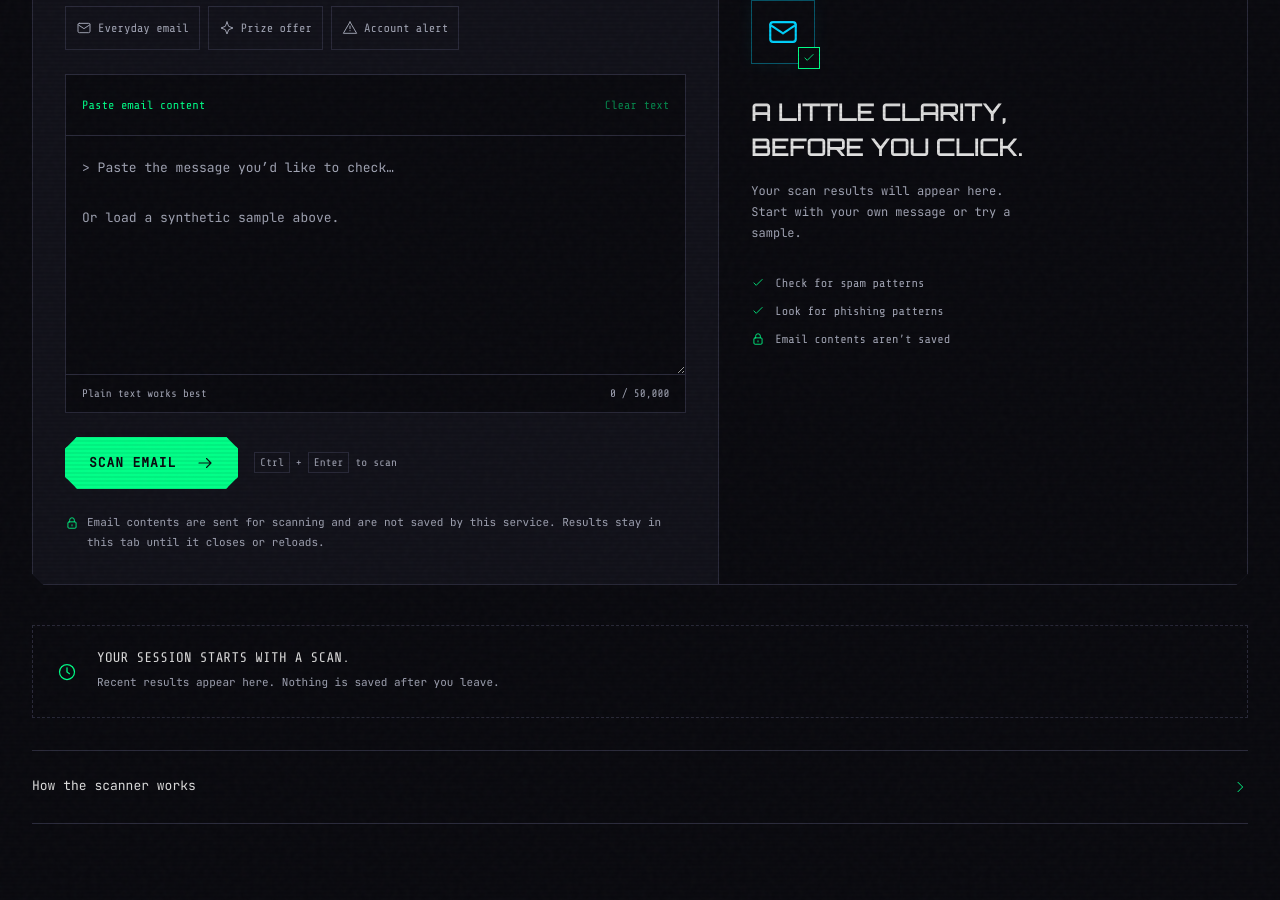
it: rejects empty input without a network request
(page scrolled)
Click the button "Scan Email" at (152, 463), box [65,437,238,489]
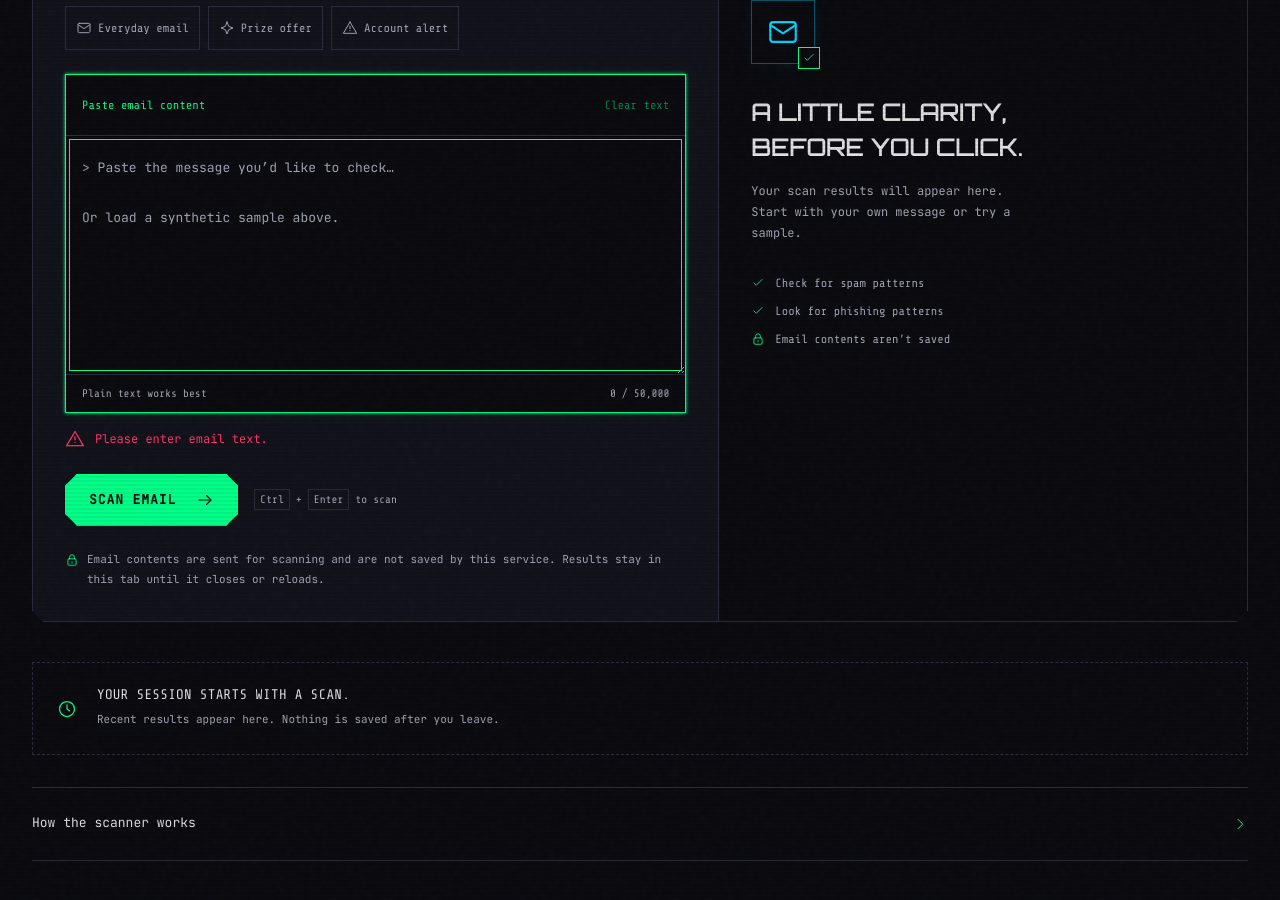
Expected: the message reads "Please enter email text.", [95,431,268,447]
